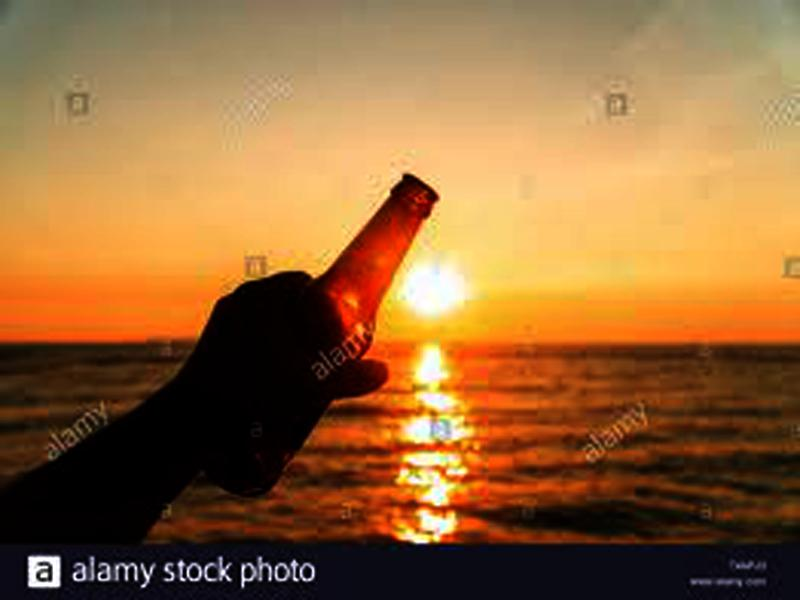Beer: (195, 169, 437, 497)
